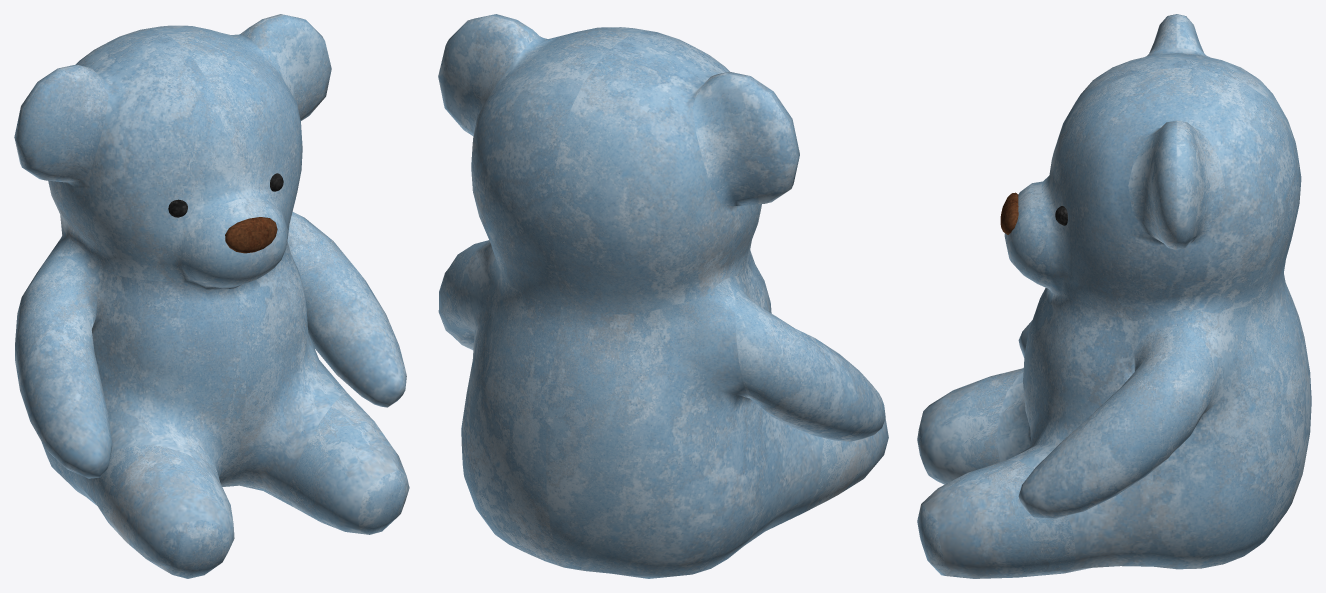
File: Blue Bear.fbx
The picture shows the model from 3 angles, left to right: view 1: azimuth 30°, elevation 25°; view 2: azimuth 150°, elevation 25°; view 3: azimuth 270°, elevation 25°; orthographic projection. The views are drawn at different scales.
Visible parts, largest first — view 1: Cube.003; view 2: Cube.003; view 3: Cube.003.
Part boxes in pixels (x1,y1,x2,y2): Cube.003: (14, 14, 409, 578); Cube.003: (438, 14, 888, 578); Cube.003: (917, 14, 1311, 578).
Bounding box in the file's own units: 56.08 × 66.13 × 51.21.
Materials: 1 (1 with a texture image).
